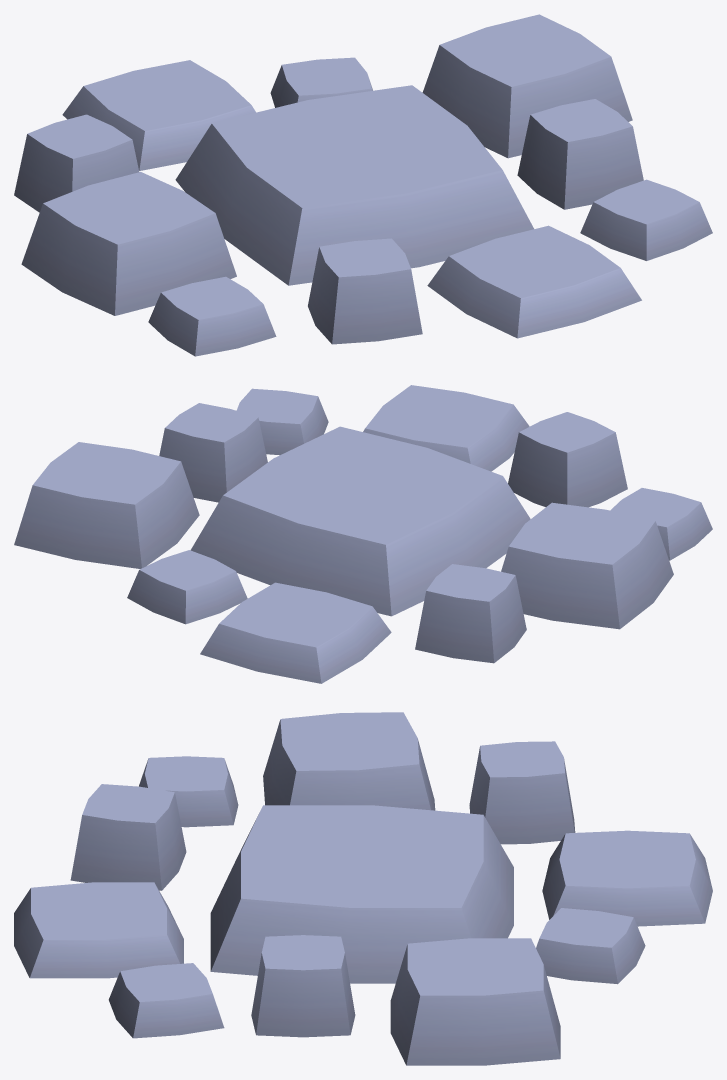
File: kenney-graveyard-road.glb
The picture shows the model from 3 angles, top to bottom: view 1: azimuth 30°, elevation 25°; view 2: azimuth 150°, elevation 25°; view 3: azimuth 270°, elevation 25°; orthographic projection. The views are drawn at different scales.
Visible parts, largest first — view 1: road; view 2: road; view 3: road.
Boxes of the visible parts, x1=… form: road: x1=14, y1=14, x2=712, y2=356; road: x1=14, y1=385, x2=712, y2=683; road: x1=14, y1=712, x2=712, y2=1065.
Bounding box in the file's own units: 0.7971 × 0.0782 × 0.7898.
Materials: 1 (1 with a texture image).
